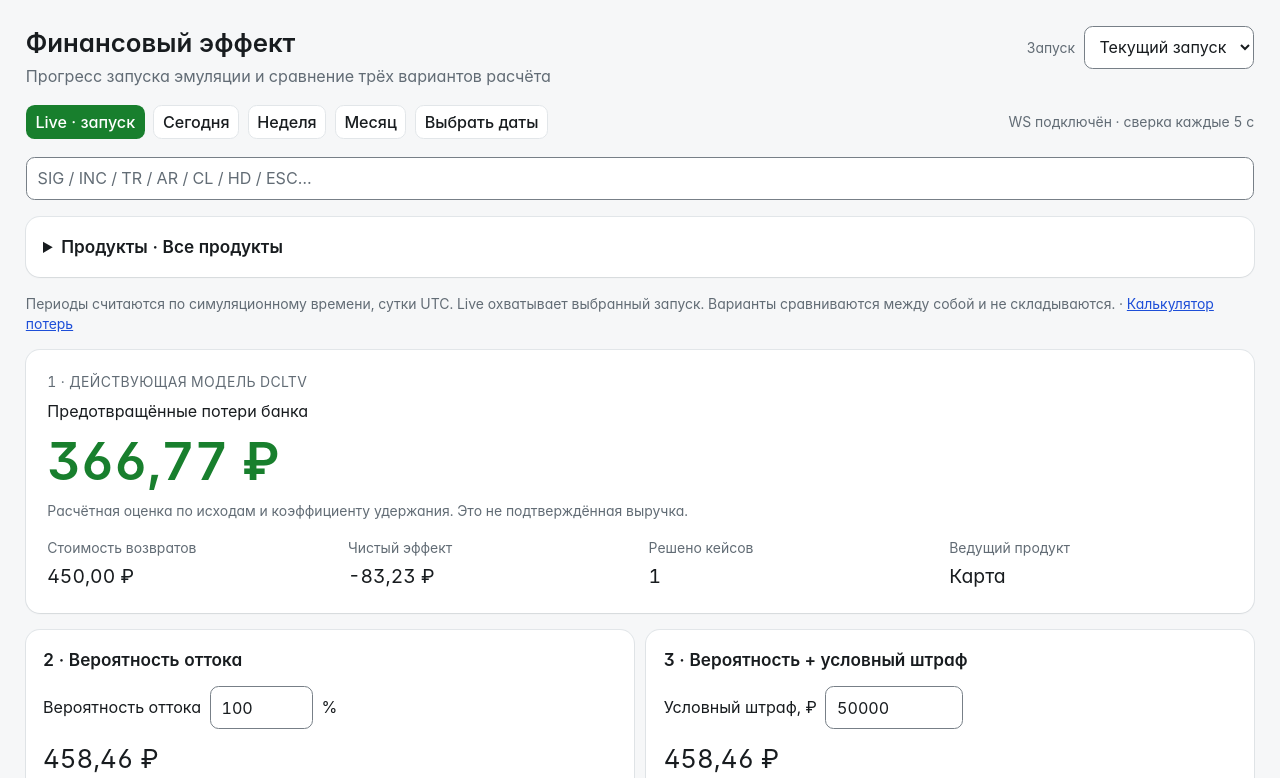
Scenario: фильтрует продукты, выбирает все и переключает исключения
Check: the text "1 · Действующая модель dCLTV" is shown, box top-left (47, 373), bottom-right (307, 390)
Click the heading "Продукты · Все продукты". click: (172, 246)
box: top-left (61, 236), bottom-right (283, 257)
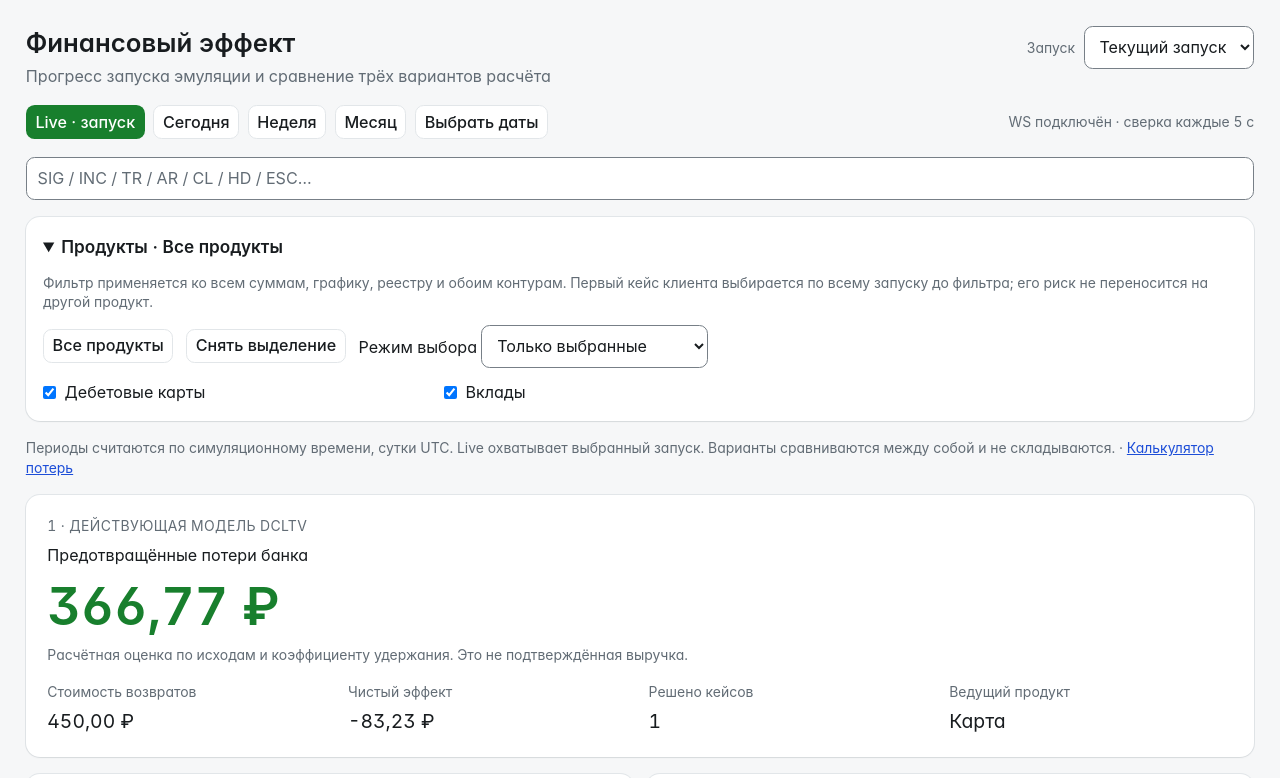
Check: the checkbox labelled "Вклады" is checked, box top-left (444, 386), bottom-right (457, 399)
Click the button "Снять выделение". click: (266, 346)
box: top-left (186, 329), bottom-right (346, 363)
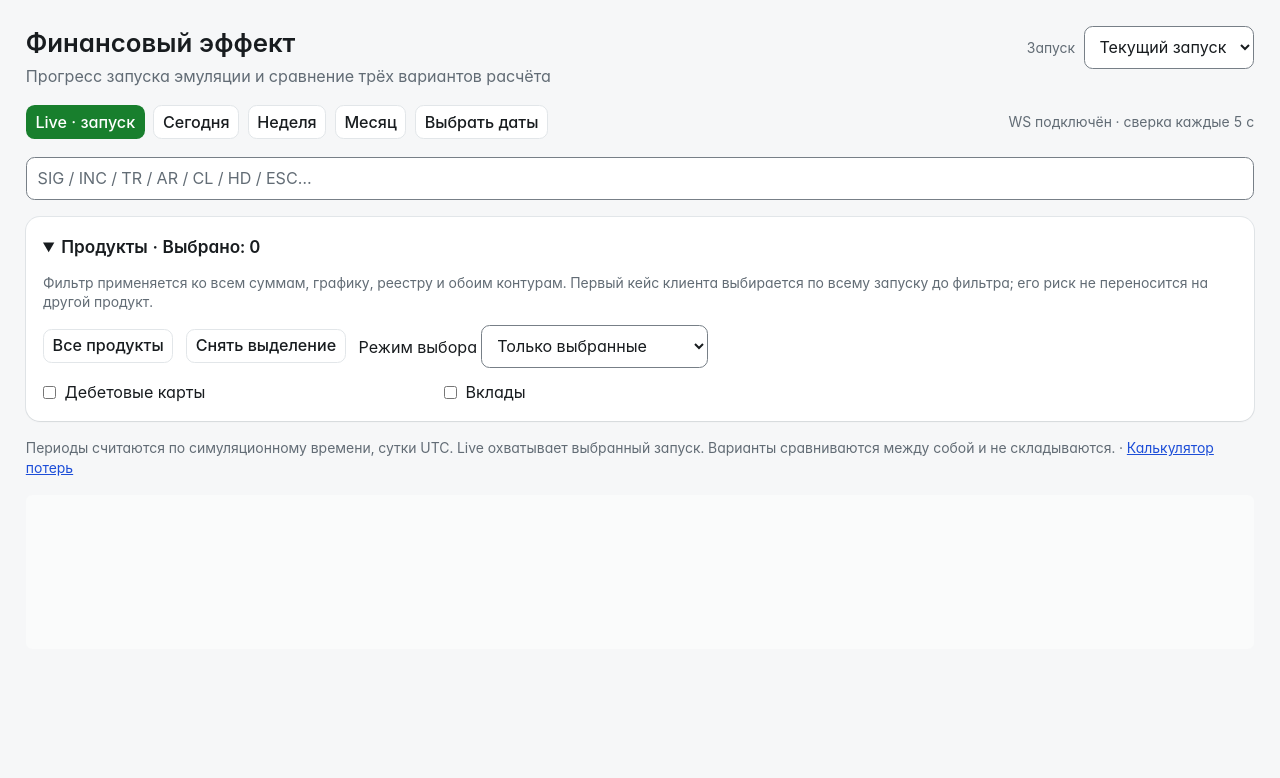
Click the checkbox labelled "Вклады". click: (450, 392)
box: top-left (444, 386), bottom-right (457, 399)
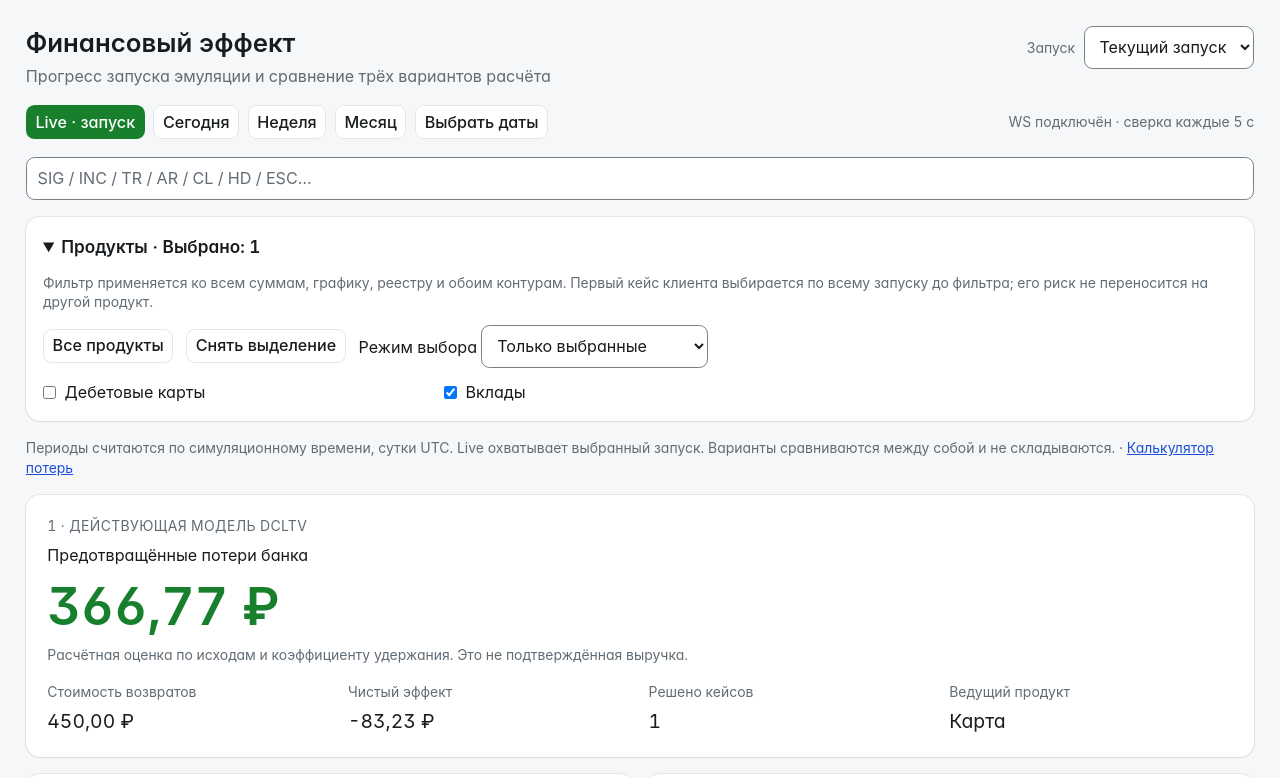
Select "Все, кроме выбранных" in the dropdown labelled "Режим выбора". click: (595, 346)
box: top-left (481, 325), bottom-right (708, 368)
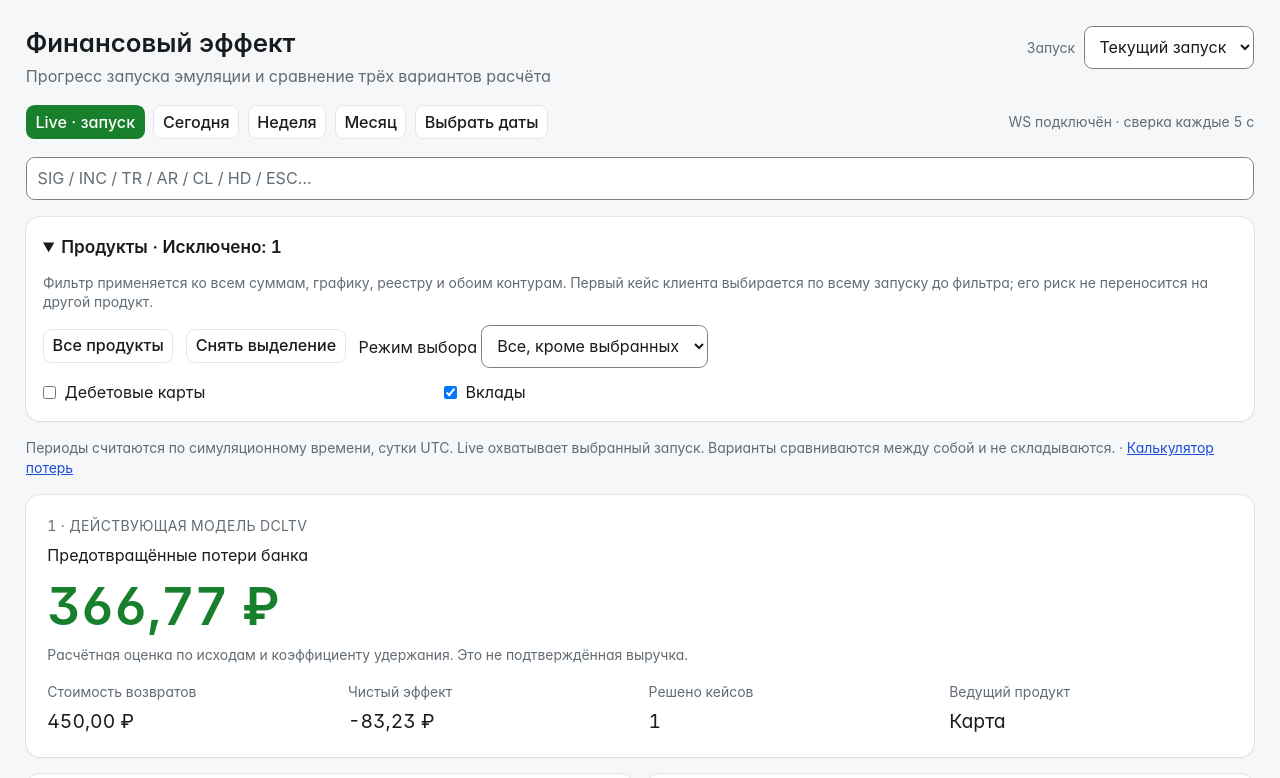
Click the button "Все продукты". click: (108, 346)
box: top-left (43, 329), bottom-right (173, 363)
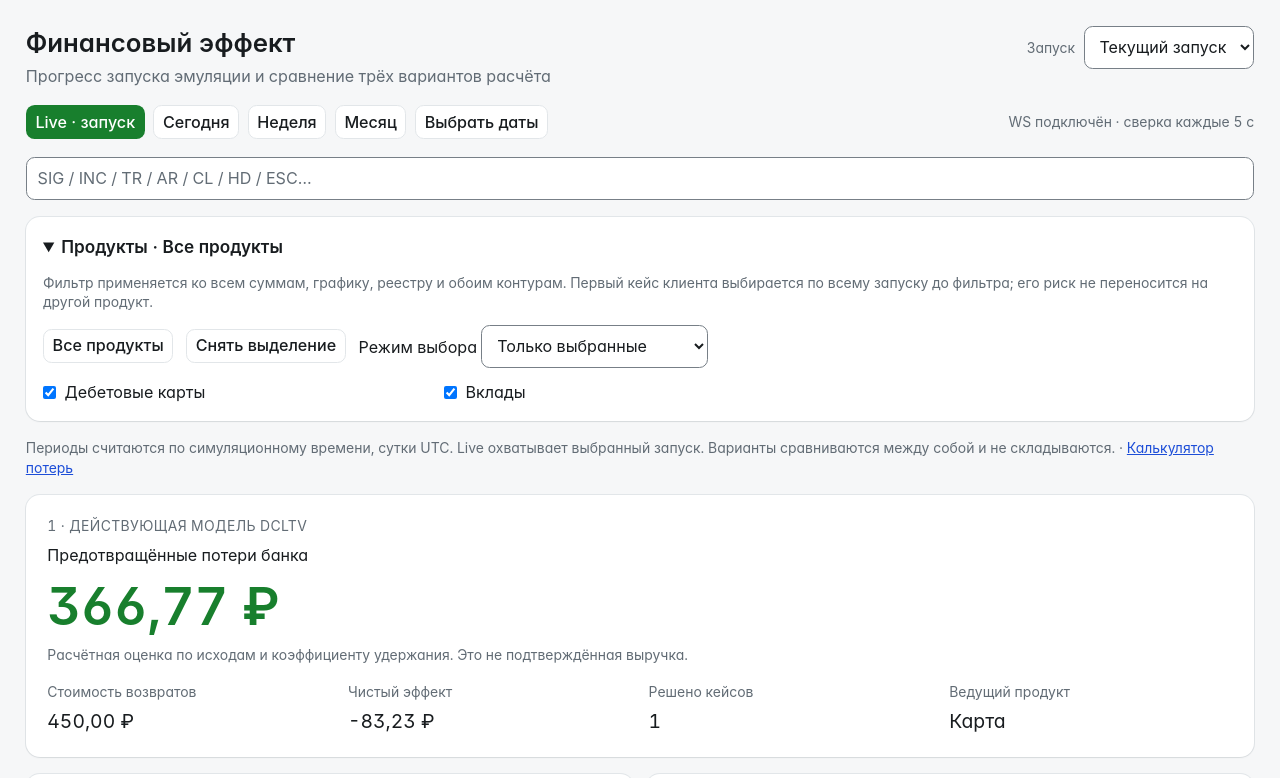
Check: the checkbox labelled "Вклады" is checked, box top-left (444, 386), bottom-right (457, 399)
Check: the checkbox labelled "Дебетовые карты" is checked, box top-left (43, 386), bottom-right (56, 399)
